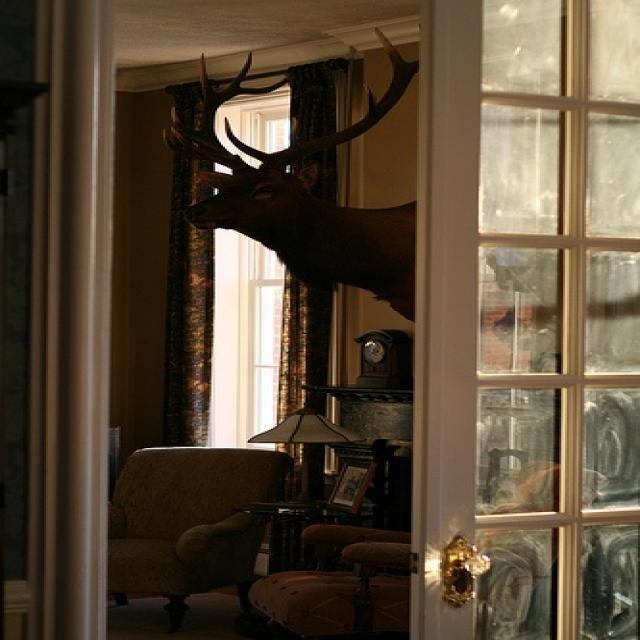chair: (108, 444, 292, 620), (242, 518, 415, 639)
